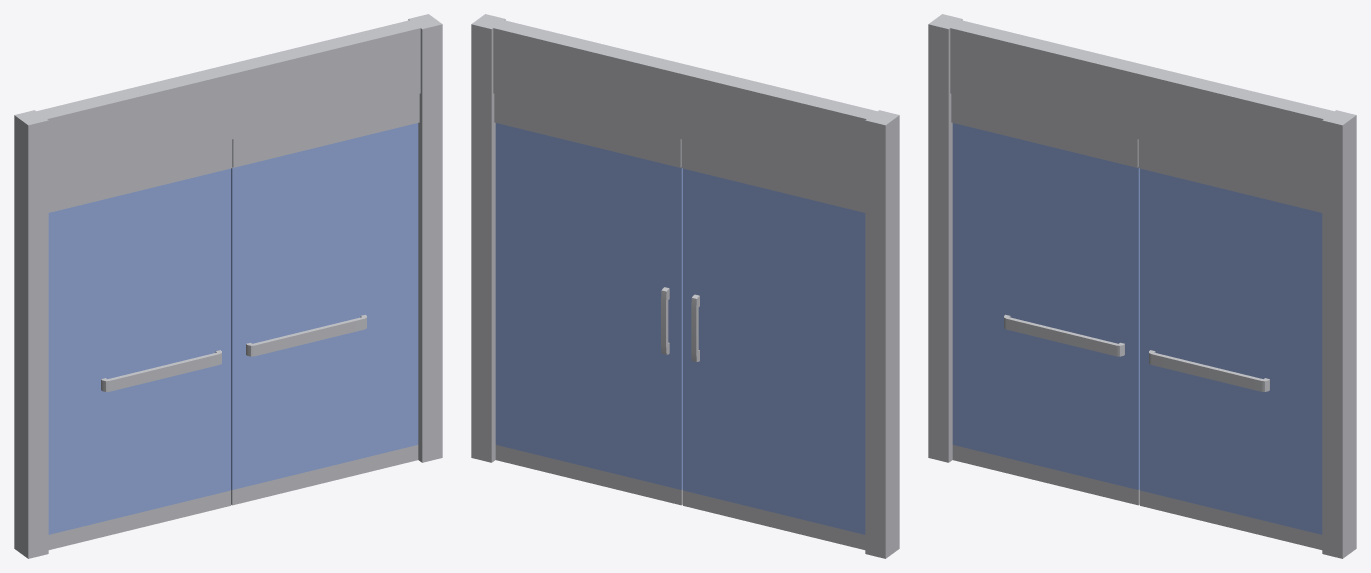
File: endtrance_door.fbx
The picture shows the model from 3 angles, left to right: view 1: azimuth 30°, elevation 25°; view 2: azimuth 150°, elevation 25°; view 3: azimuth 330°, elevation 25°; orthographic projection.
Visible parts, largest first — view 1: entrance_door; view 2: entrance_door; view 3: entrance_door.
Boxes of the visible parts, <box> form: entrance_door: <box>14,14,442,558</box>; entrance_door: <box>471,14,899,558</box>; entrance_door: <box>928,14,1356,558</box>.
Size of the model in its own units: 0.0216 by 0.0216 by 0.00141.
Materials: 1 (1 with a texture image).
